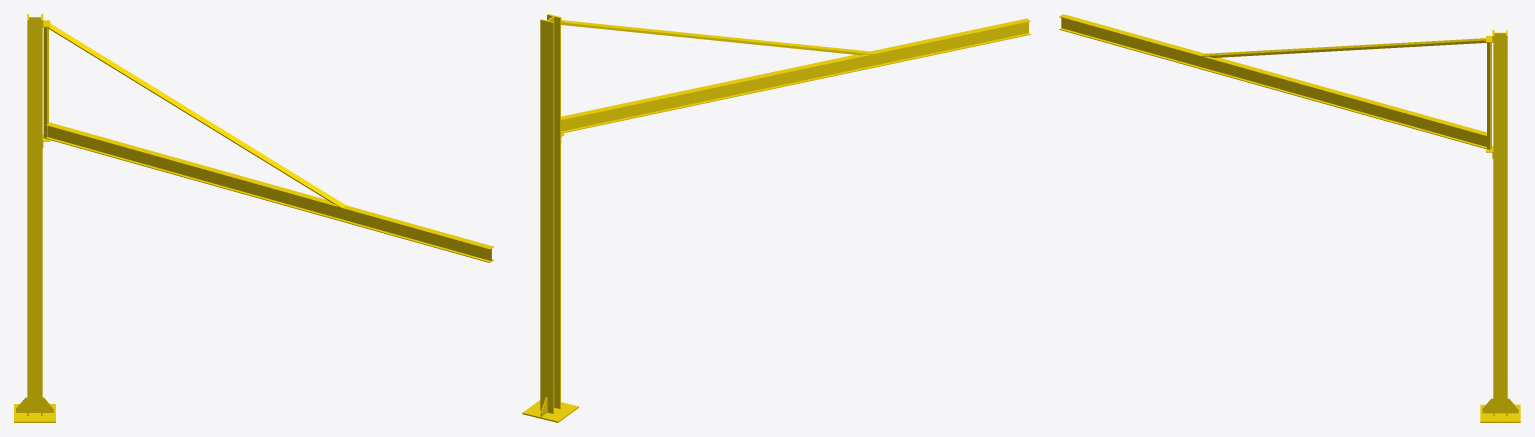
3 views of the same model, side by side, from view 1: azimuth 90°, elevation 25°; view 2: azimuth 150°, elevation 25°; view 3: azimuth 270°, elevation 25° (orthographic). The views are drawn at different scales.
Parts seen in each view (by area): view 1: imagetostl_mesh83, imagetostl_mesh31, imagetostl_mesh74, imagetostl_mesh45, imagetostl_mesh68, imagetostl_mesh7, imagetostl_mesh29, imagetostl_mesh75, imagetostl_mesh86, imagetostl_mesh79, imagetostl_mesh69; view 2: imagetostl_mesh8, imagetostl_mesh83, imagetostl_mesh17, imagetostl_mesh45, imagetostl_mesh68, imagetostl_mesh74, imagetostl_mesh56, imagetostl_mesh75, imagetostl_mesh86, imagetostl_mesh79, imagetostl_mesh5; view 3: imagetostl_mesh10, imagetostl_mesh78, imagetostl_mesh45, imagetostl_mesh63, imagetostl_mesh74, imagetostl_mesh3, imagetostl_mesh27, imagetostl_mesh55, imagetostl_mesh75, imagetostl_mesh85, imagetostl_mesh84, imagetostl_mesh5.
Part boxes in pixels (box(x1,y1,x2,y2)): imagetostl_mesh83: box(47, 126, 491, 260); imagetostl_mesh31: box(29, 17, 40, 412); imagetostl_mesh74: box(48, 23, 345, 207); imagetostl_mesh45: box(46, 122, 338, 206); imagetostl_mesh68: box(46, 137, 491, 262); imagetostl_mesh7: box(27, 20, 28, 415); imagetostl_mesh29: box(41, 20, 42, 415); imagetostl_mesh75: box(342, 205, 493, 249); imagetostl_mesh86: box(46, 138, 489, 262); imagetostl_mesh79: box(46, 125, 489, 249); imagetostl_mesh69: box(43, 27, 46, 138); imagetostl_mesh8: box(540, 20, 553, 413); imagetostl_mesh83: box(561, 22, 1028, 131); imagetostl_mesh17: box(554, 16, 559, 408); imagetostl_mesh45: box(561, 54, 870, 119); imagetostl_mesh68: box(561, 33, 1030, 132); imagetostl_mesh74: box(562, 20, 873, 54); imagetostl_mesh56: box(561, 23, 865, 55); imagetostl_mesh75: box(871, 18, 1029, 53); imagetostl_mesh86: box(561, 34, 1030, 133); imagetostl_mesh79: box(561, 21, 1030, 120); imagetostl_mesh5: box(522, 400, 578, 421); imagetostl_mesh10: box(1494, 33, 1506, 413); imagetostl_mesh78: box(1061, 18, 1486, 146); imagetostl_mesh45: box(1204, 56, 1486, 135); imagetostl_mesh63: box(1059, 28, 1486, 148); imagetostl_mesh74: box(1202, 38, 1485, 56); imagetostl_mesh3: box(1506, 36, 1507, 416); imagetostl_mesh27: box(1493, 36, 1494, 416); imagetostl_mesh55: box(1209, 41, 1486, 57); imagetostl_mesh75: box(1060, 14, 1204, 56); imagetostl_mesh85: box(1059, 16, 1485, 136); imagetostl_mesh84: box(1059, 29, 1485, 148); imagetostl_mesh5: box(1480, 404, 1520, 421).
Size of the model in its own units: 3.3 by 4.54 by 4.97.
